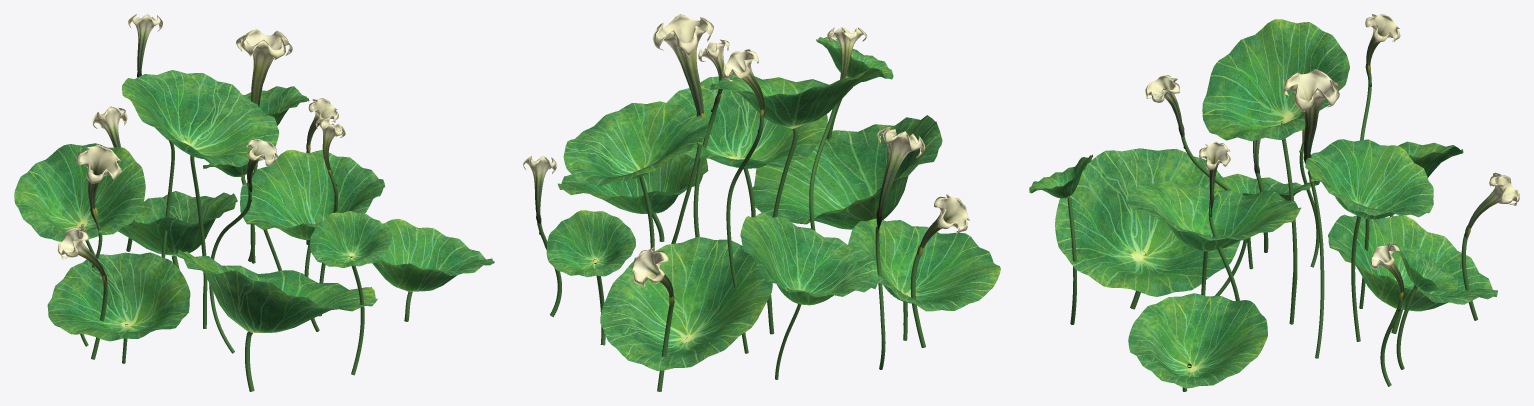
Rendered from lotus.glb.
The picture shows the model from 3 angles, left to right: view 1: azimuth 30°, elevation 25°; view 2: azimuth 150°, elevation 25°; view 3: azimuth 270°, elevation 25°; orthographic projection. The views are drawn at different scales.
Parts seen in each view (by area): view 1: lily pad 1.026_lilypad_0, lily pad 1.026_trumpet flower-white_0, lily pad 1.026_stems_0; view 2: lily pad 1.026_lilypad_0, lily pad 1.026_trumpet flower-white_0, lily pad 1.026_stems_0, lily pad 1.026_bud_0; view 3: lily pad 1.026_lilypad_0, lily pad 1.026_stems_0, lily pad 1.026_trumpet flower-white_0, lily pad 1.026_bud_0.
Boxes of the visible parts, bbox=[...] form: lily pad 1.026_lilypad_0: bbox=[14, 70, 494, 341]; lily pad 1.026_trumpet flower-white_0: bbox=[57, 14, 345, 276]; lily pad 1.026_stems_0: bbox=[80, 140, 412, 391]; lily pad 1.026_lilypad_0: bbox=[546, 37, 1000, 370]; lily pad 1.026_trumpet flower-white_0: bbox=[523, 14, 969, 297]; lily pad 1.026_stems_0: bbox=[537, 97, 925, 391]; lily pad 1.026_bud_0: bbox=[536, 94, 924, 306]; lily pad 1.026_lilypad_0: bbox=[1029, 19, 1497, 388]; lily pad 1.026_stems_0: bbox=[1067, 70, 1477, 391]; lily pad 1.026_trumpet flower-white_0: bbox=[1145, 14, 1519, 292]; lily pad 1.026_bud_0: bbox=[1178, 64, 1471, 299].
Size of the model in its own units: 1647 by 1132 by 1680.
6 materials, 4 textured.
